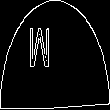M_S: (43, 29, 67, 81)
